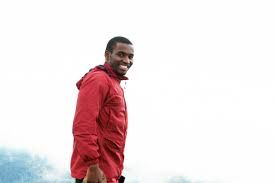no-mask: (105, 35, 138, 78)
